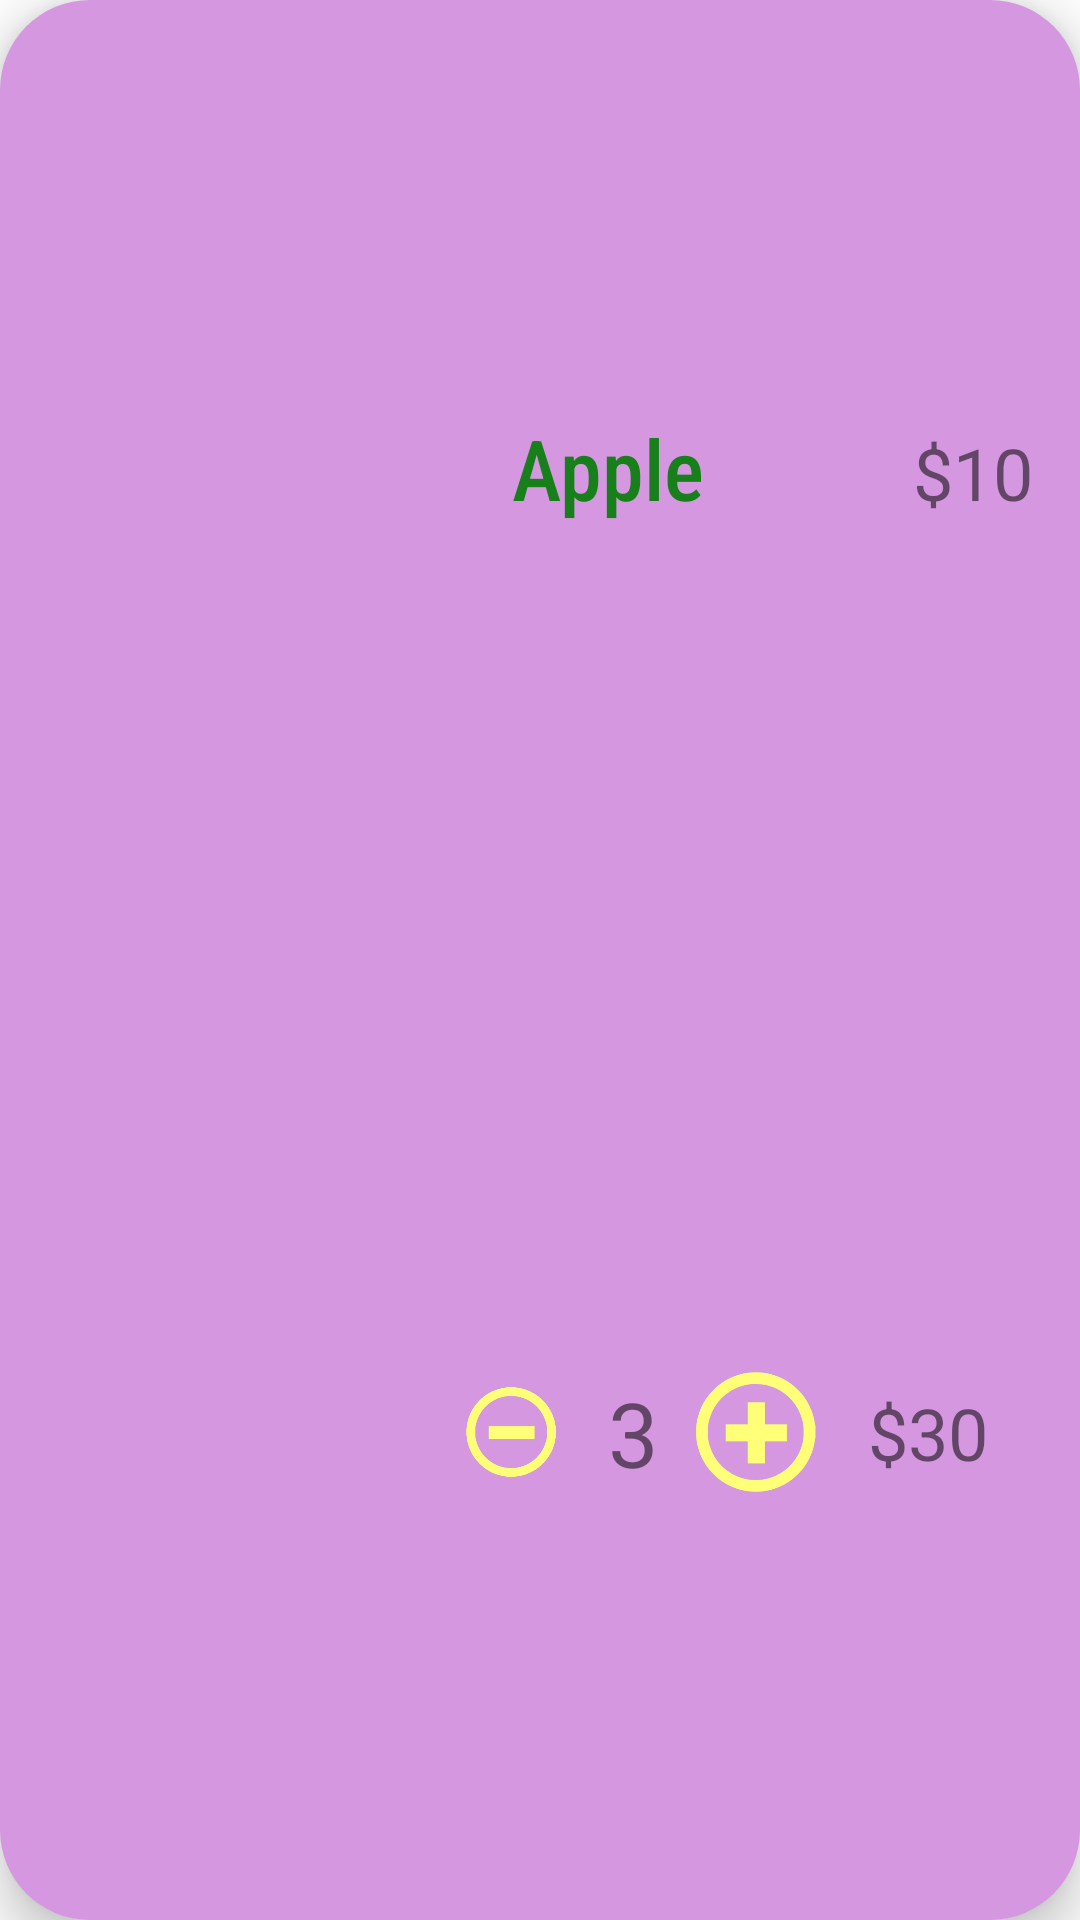

Icon click points for this 1080w x 1920h phone screenshot, format [x,y]:
minus: [511,1432]
plus: [756,1432]
